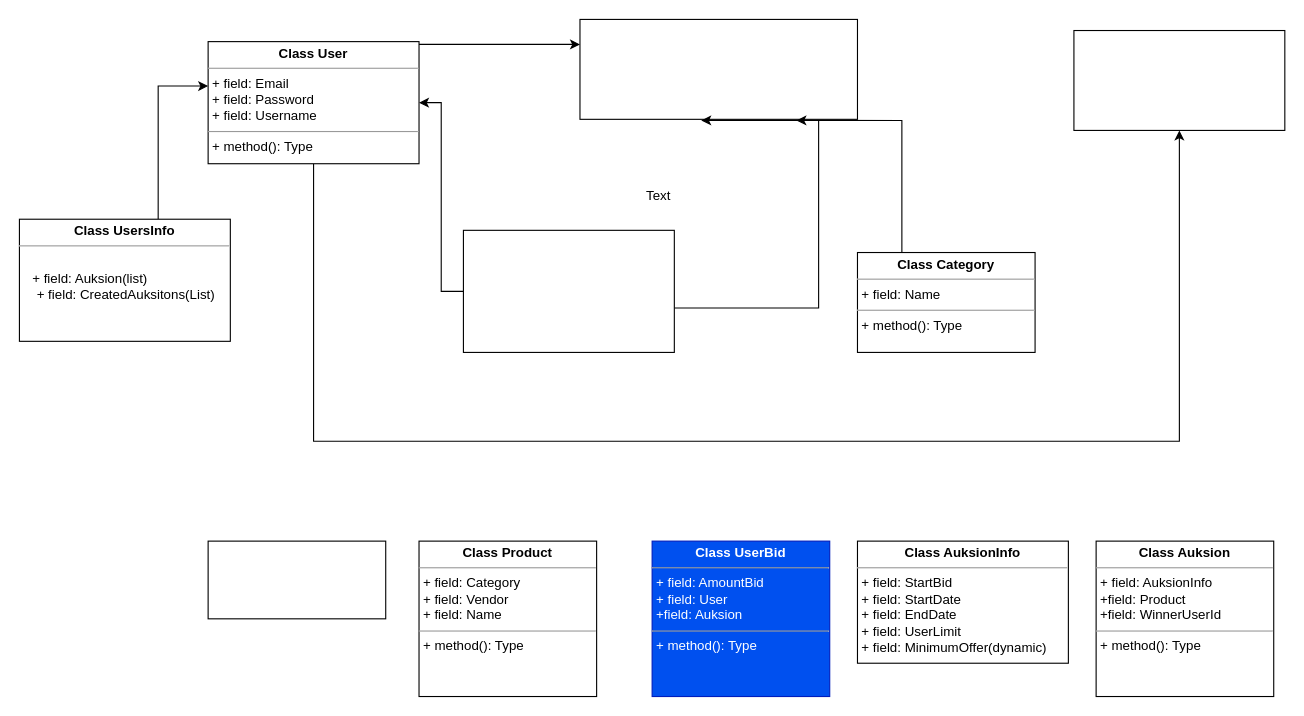
This 1304x716 diagram has some shape labels left out. The centre of each missing label's shape, as x and y in pixels:
<<Interface>> IAuditableEntity + field1: CreationDate + field2: ?ModifiedDate: [1179,79]
<<Interface>> IEntity + field1: Id: [718,68]
Class Admin: [568,290]
Class AuksionSubscribers Field : ProductId field: UserId: [296,579]
